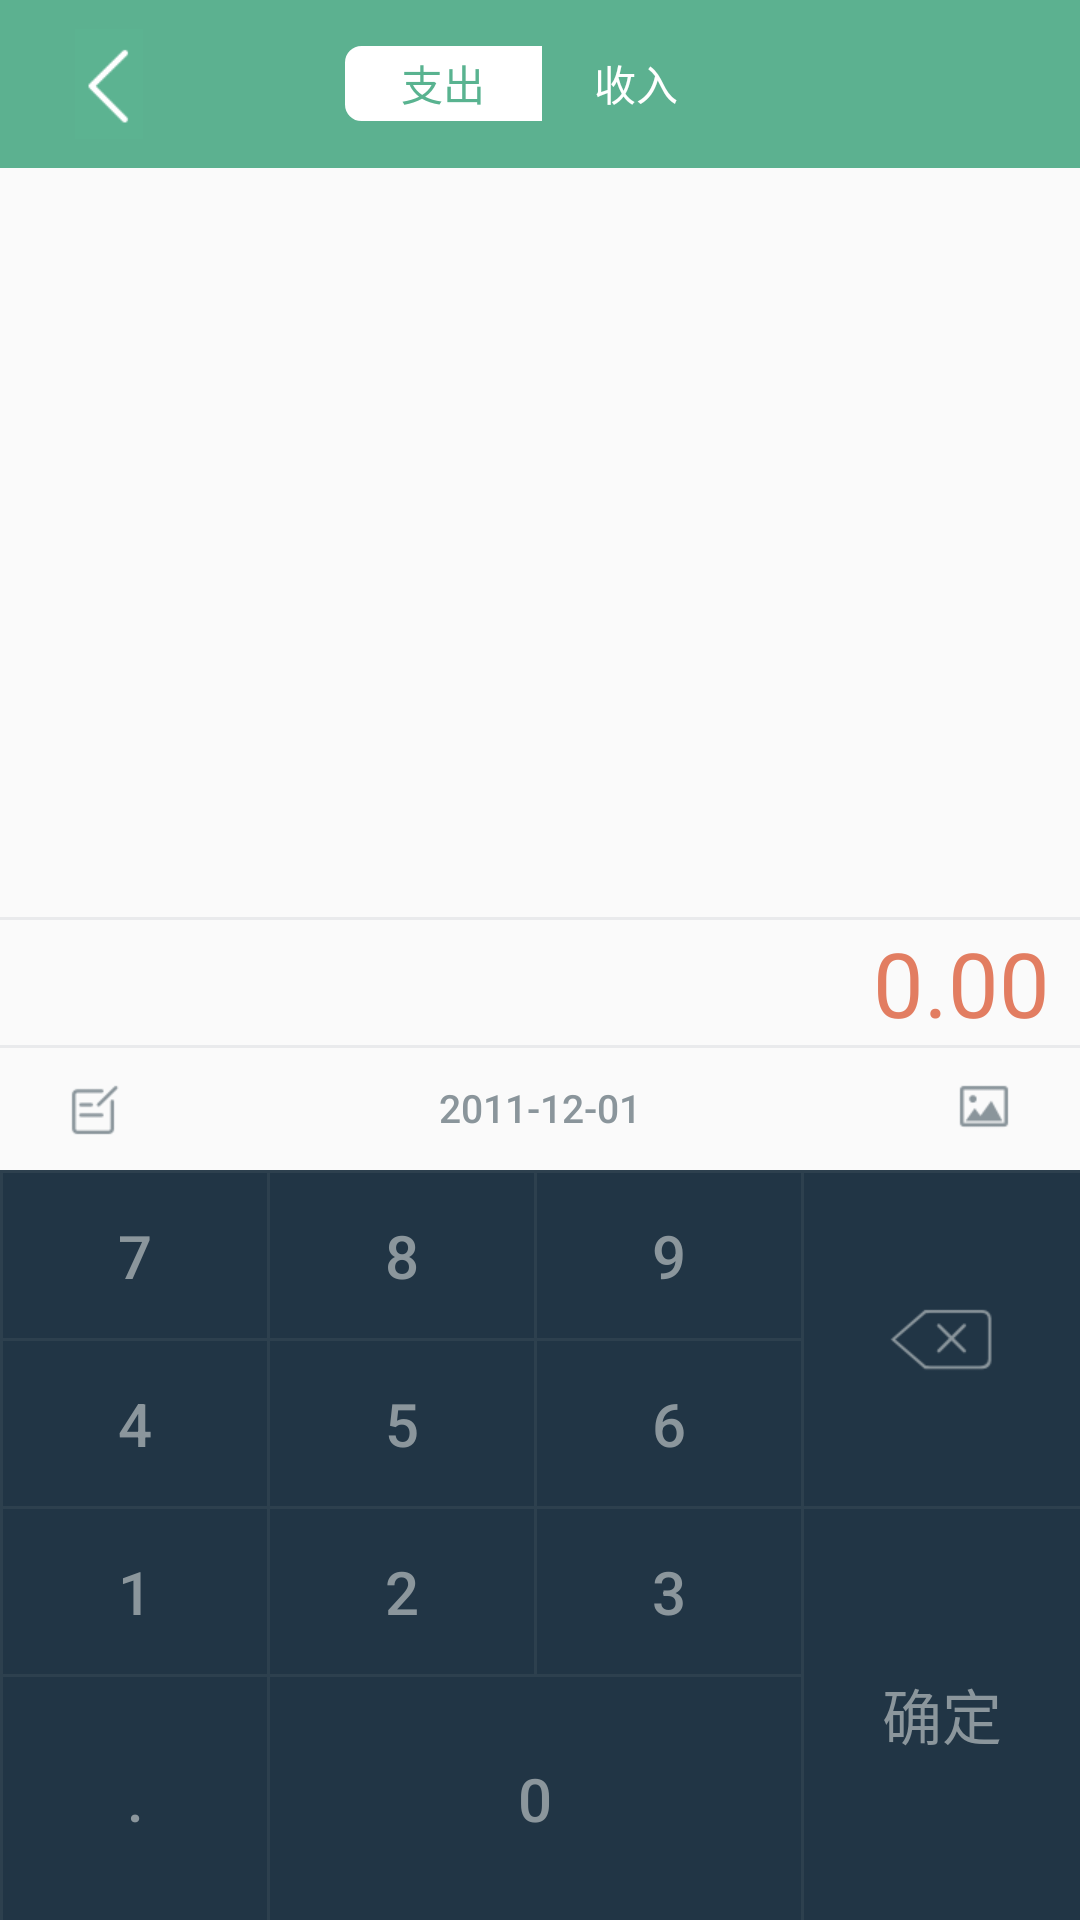

Point at icon controls on the screen. Image size 1080×1920, points as point (x, y).
back: point (108, 86)
backspace: point (941, 1340)
